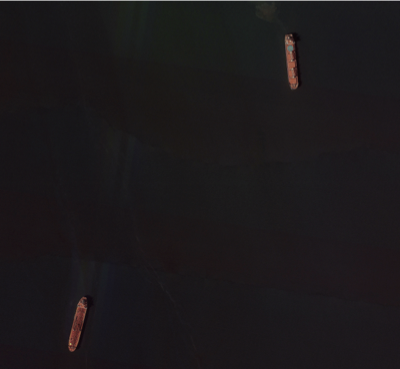boat: (68, 296, 89, 352), (284, 33, 299, 90)
